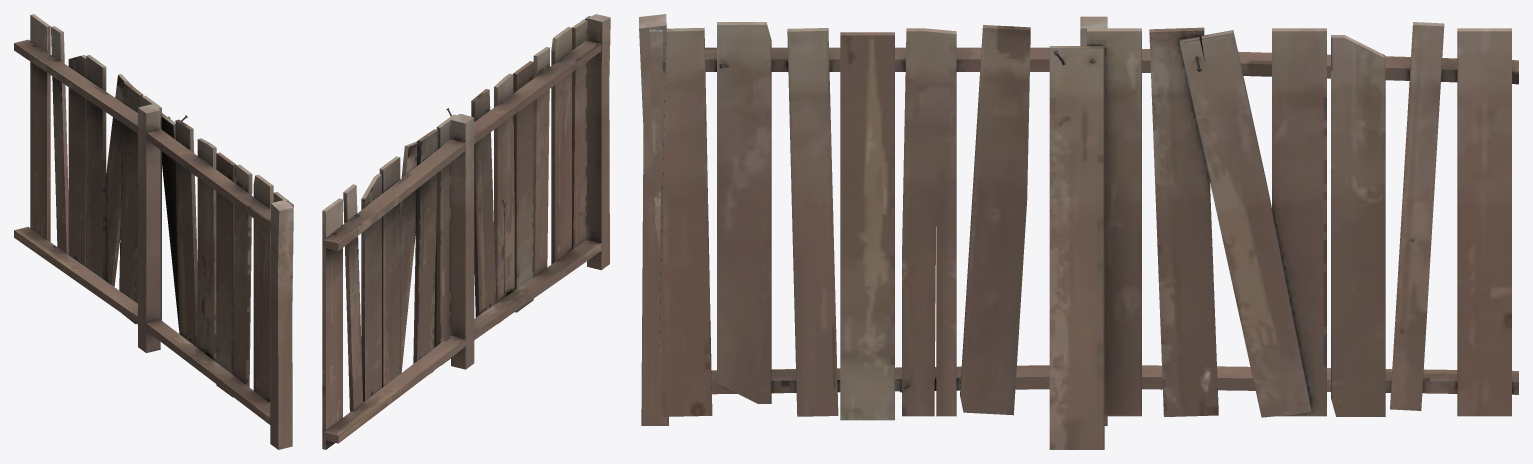
The picture shows the model from 3 angles, left to right: view 1: azimuth 30°, elevation 25°; view 2: azimuth 150°, elevation 25°; view 3: azimuth 270°, elevation 25°; orthographic projection. The views are drawn at different scales.
Parts seen in each view (by area): view 1: body0_model0_lod0_mesh0; view 2: body0_model0_lod0_mesh0; view 3: body0_model0_lod0_mesh0.
Boxes of the visible parts, x1=… form: body0_model0_lod0_mesh0: x1=14, y1=14, x2=293, y2=449; body0_model0_lod0_mesh0: x1=322, y1=14, x2=610, y2=449; body0_model0_lod0_mesh0: x1=639, y1=14, x2=1518, y2=449.
Size of the model in its own units: 12.43 by 65.06 by 128.
1 material, 1 textured.
